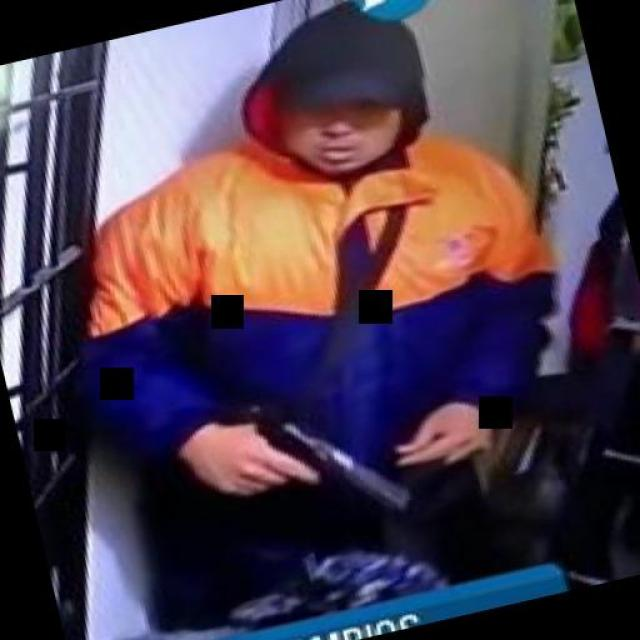gun: (202, 387, 424, 555)
